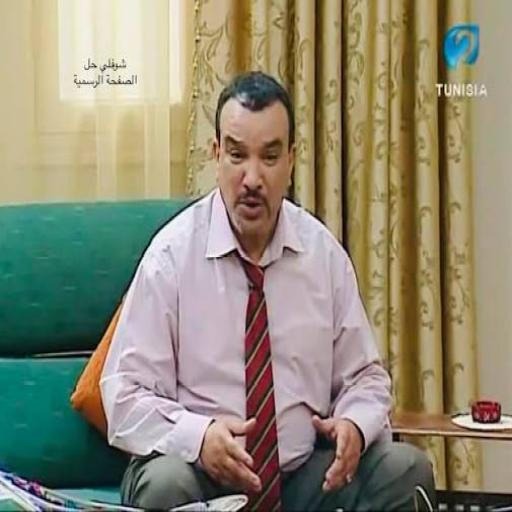slimane: (213, 71, 294, 246)
